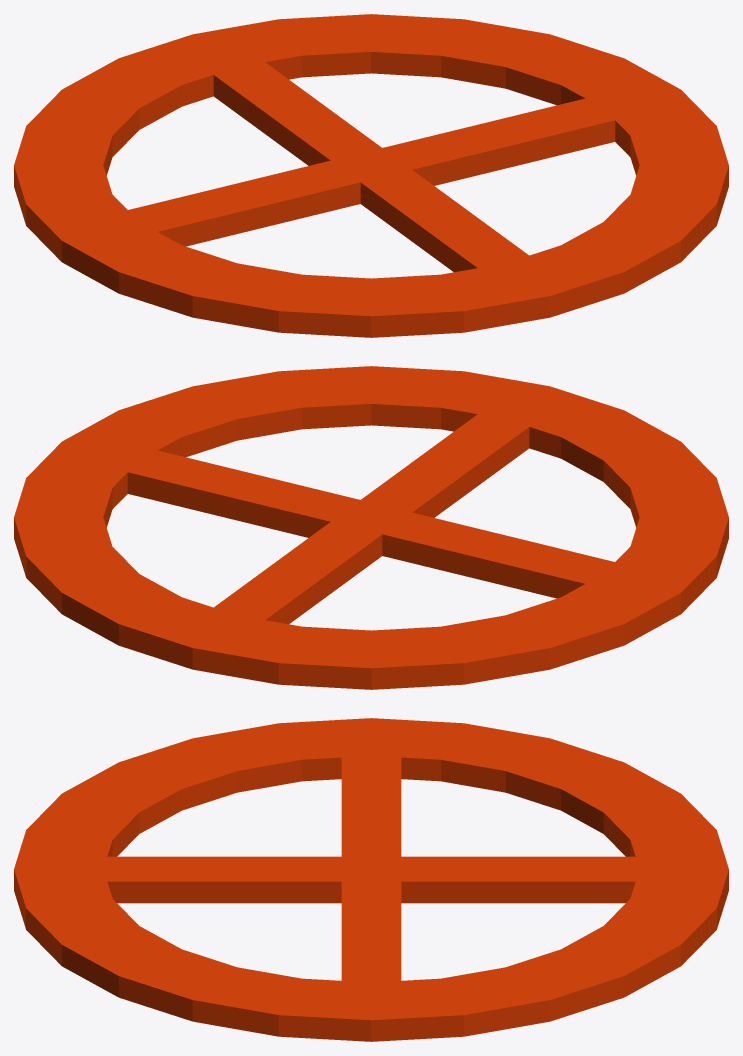
File: target.glb
The picture shows the model from 3 angles, top to bottom: view 1: azimuth 30°, elevation 25°; view 2: azimuth 150°, elevation 25°; view 3: azimuth 270°, elevation 25°; orthographic projection.
Visible parts, largest first — view 1: Mesh_Mesh_head_geo.001_lambert2SG.001; view 2: Mesh_Mesh_head_geo.001_lambert2SG.001; view 3: Mesh_Mesh_head_geo.001_lambert2SG.001.
Boxes of the visible parts, bbox=[...] form: Mesh_Mesh_head_geo.001_lambert2SG.001: bbox=[14, 14, 728, 337]; Mesh_Mesh_head_geo.001_lambert2SG.001: bbox=[14, 366, 728, 689]; Mesh_Mesh_head_geo.001_lambert2SG.001: bbox=[14, 718, 728, 1041].
Size of the model in its own units: 0.15 by 0.005 by 0.15.
